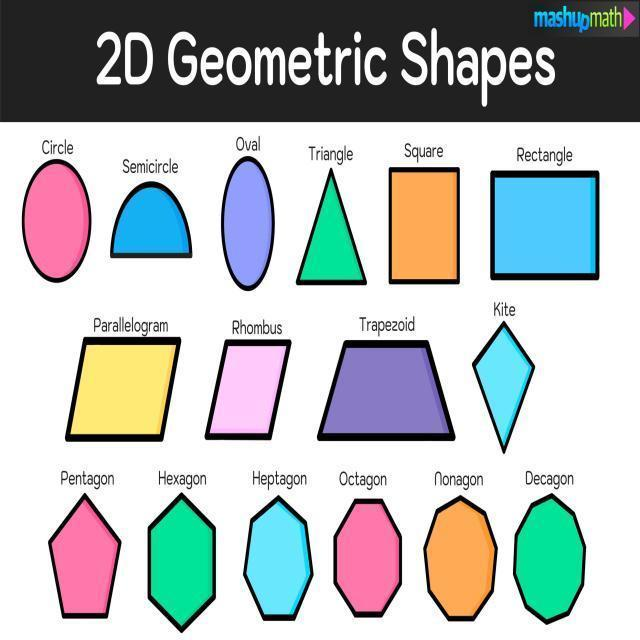circle: (12, 150, 101, 286), (213, 149, 281, 296)
square: (382, 155, 472, 291)
triangle: (287, 159, 377, 306)
